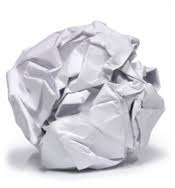paper: (6, 19, 167, 175)
